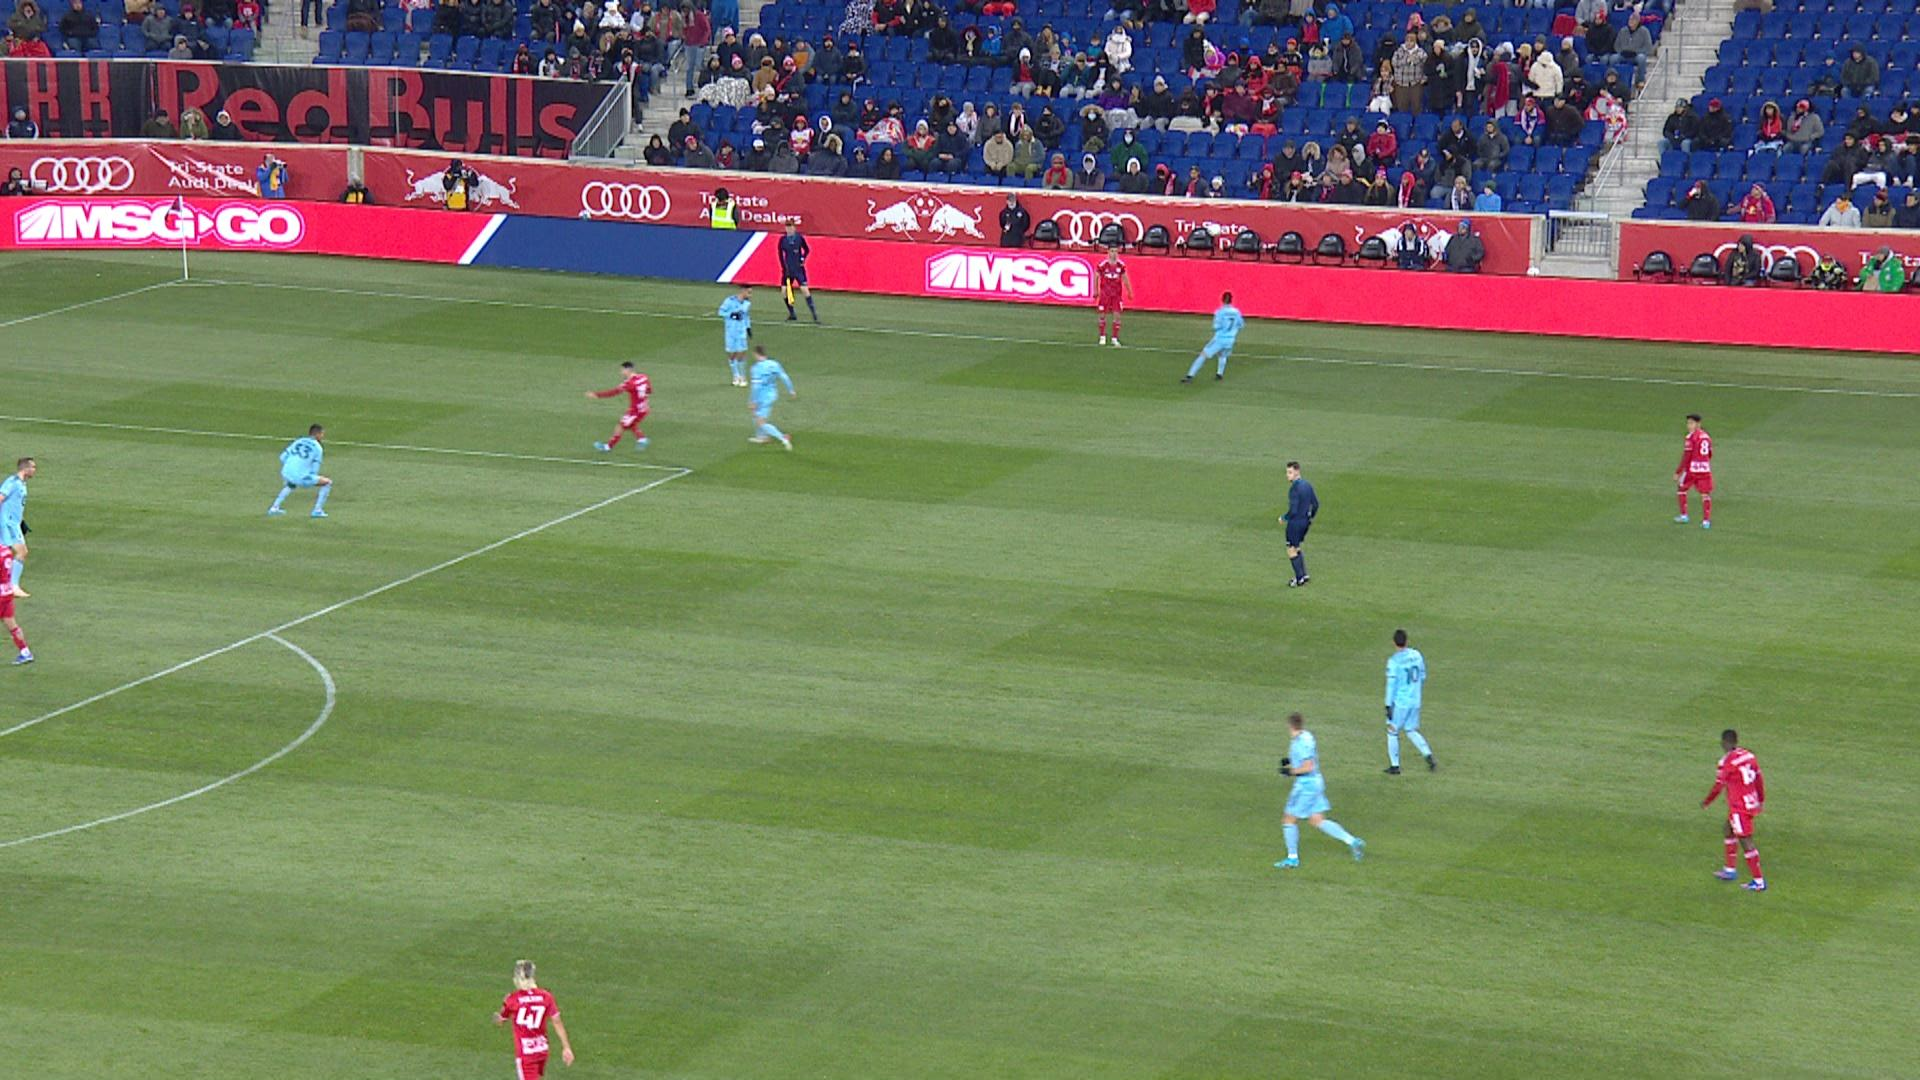football: (1209, 224, 1220, 235)
